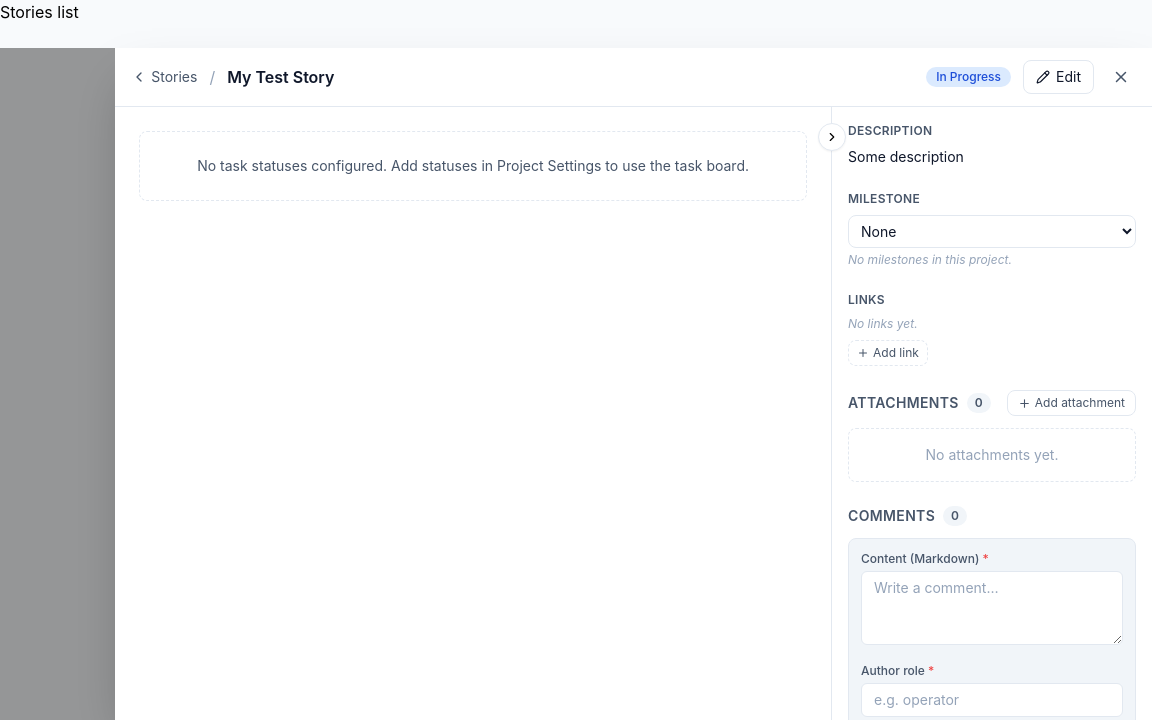
Test case: StorySlideOver › renders no separator while the details panel is collapsed
Click the button named "Collapse details panel".
click(832, 137)  # box x1=818 y1=123 x2=846 y2=151
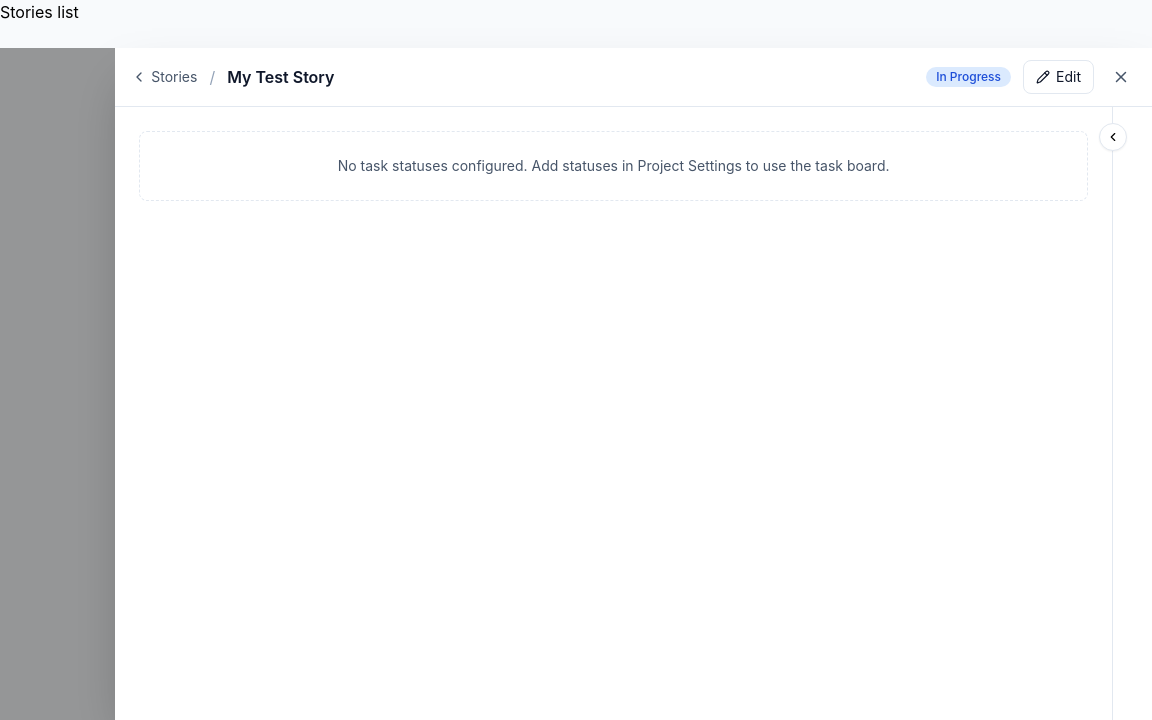
Result: the button named "Expand details panel" is shown at x1=1099 y1=123 x2=1127 y2=151
